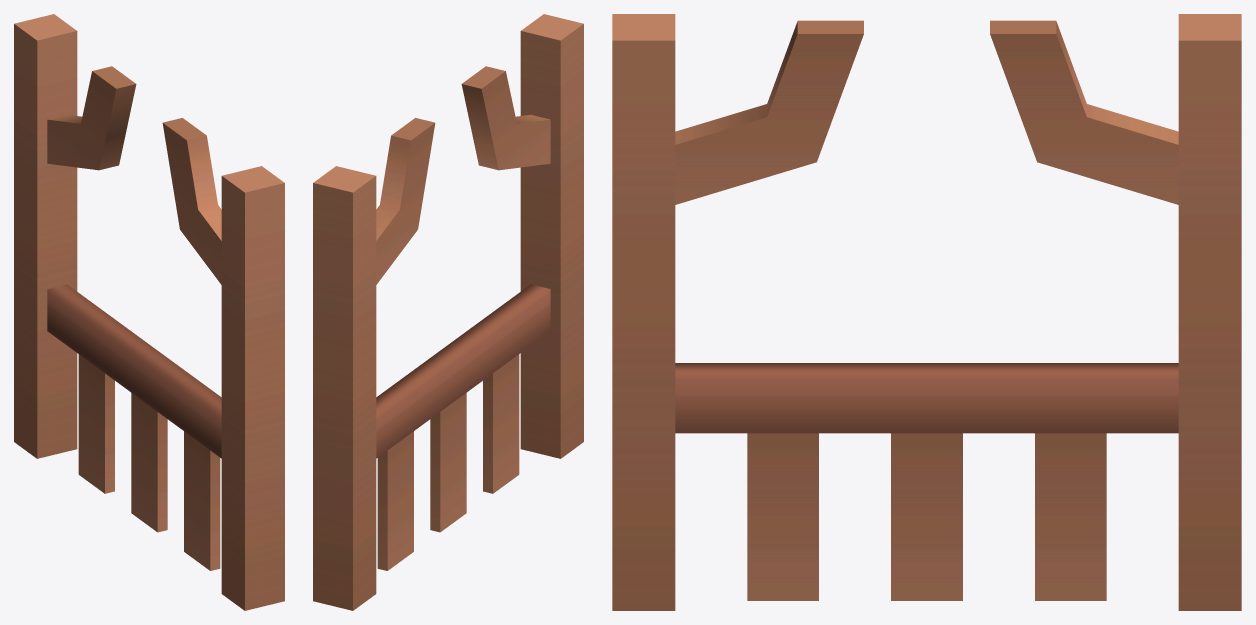
The model's file is balcony-wall-fence.glb.
The picture shows the model from 3 angles, left to right: view 1: azimuth 30°, elevation 25°; view 2: azimuth 150°, elevation 25°; view 3: azimuth 270°, elevation 25°; orthographic projection. The views are drawn at different scales.
Parts seen in each view (by area): view 1: balcony-wall-fence; view 2: balcony-wall-fence; view 3: balcony-wall-fence.
Boxes of the visible parts, left/top/right/bottom form: balcony-wall-fence: left=14, top=14, right=284, bottom=610; balcony-wall-fence: left=313, top=14, right=583, bottom=610; balcony-wall-fence: left=612, top=14, right=1241, bottom=610.
Size of the model in its own units: 0.1 by 1 by 1.
1 material, 1 textured.
